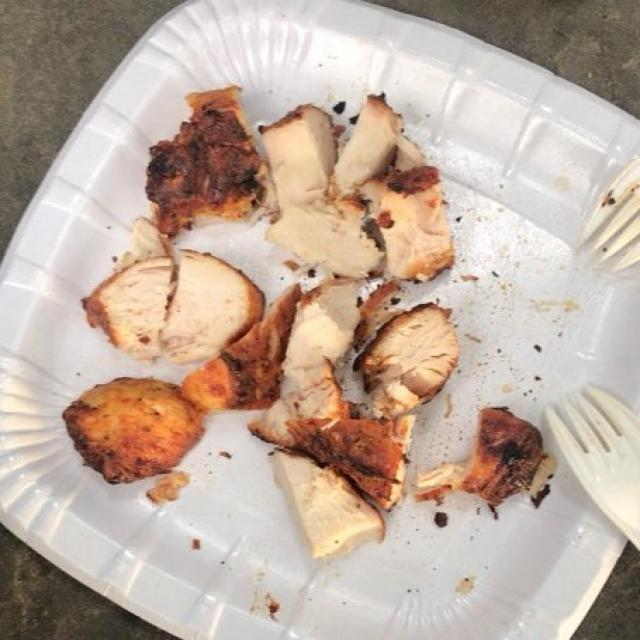chicken: (79, 98, 541, 562)
